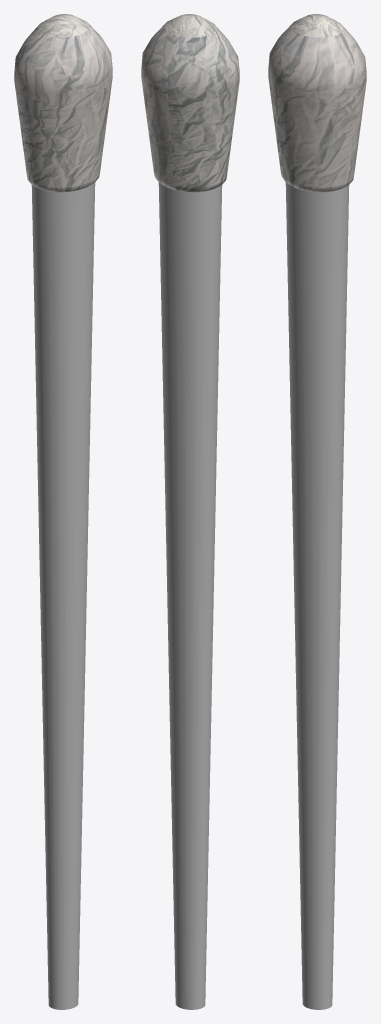
File: MDL_Tocha.fbx
The picture shows the model from 3 angles, left to right: view 1: azimuth 30°, elevation 25°; view 2: azimuth 150°, elevation 25°; view 3: azimuth 330°, elevation 25°; orthographic projection.
Visible parts, largest first — view 1: pCylinder5; view 2: pCylinder5; view 3: pCylinder5.
Boxes of the visible parts, <box> form: pCylinder5: <box>14,14,112,1009</box>; pCylinder5: <box>141,14,239,1009</box>; pCylinder5: <box>268,14,366,1009</box>.
Size of the model in its own units: 0.931 by 9.89 by 0.8277.
